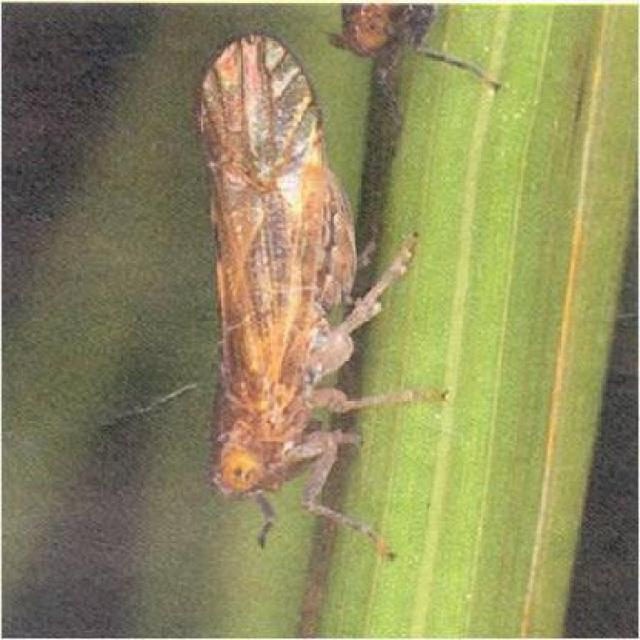brown-planthopper: (191, 26, 364, 505)
